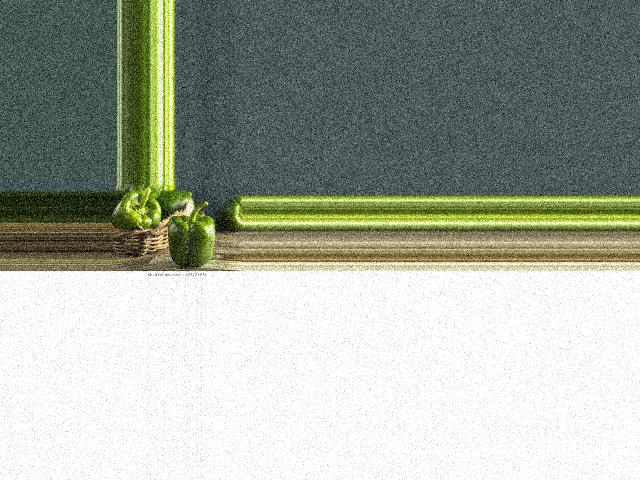bell_pepper: (224, 196, 243, 225)
